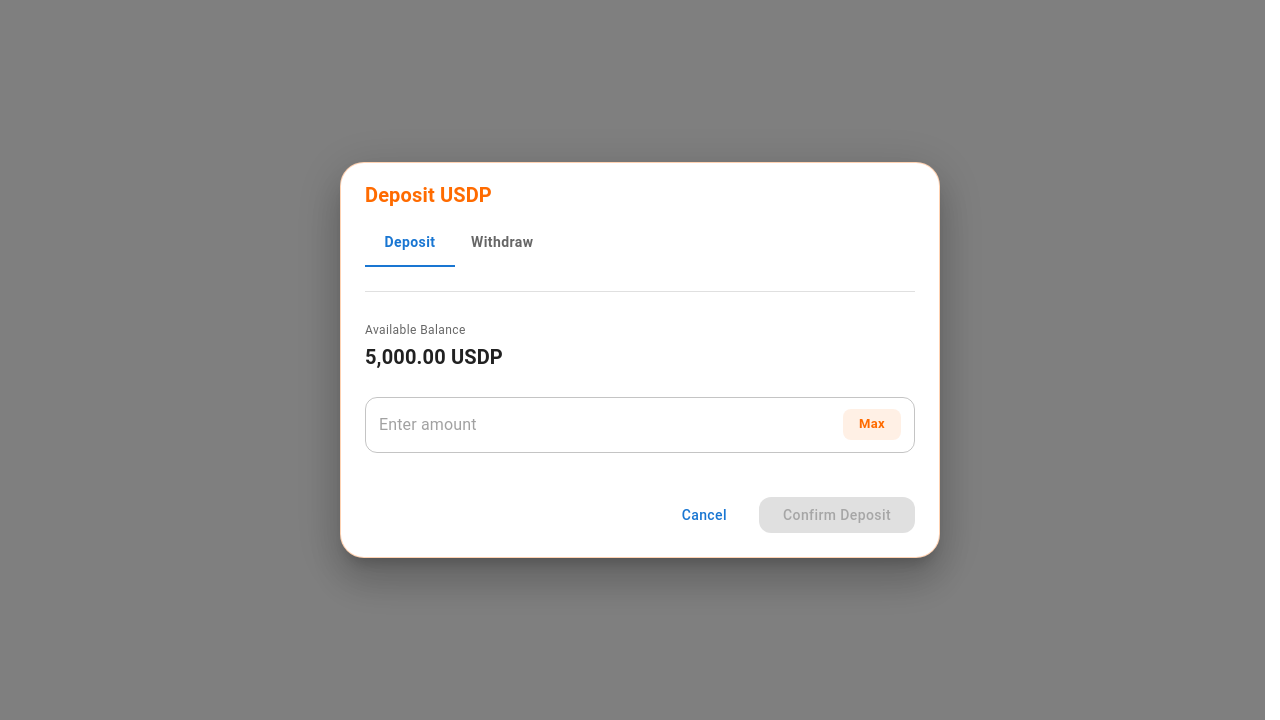
Scenario: SavingsDepositModal › Functional Tests › should switch between Deposit and Withdraw tabs
Expected: the heading "Deposit USDP" is shown, [365,183,492,207]
Note: Click Withdraw tab
Step 1. Click the tab "Withdraw" → click(502, 243), box [455,219,549,267]
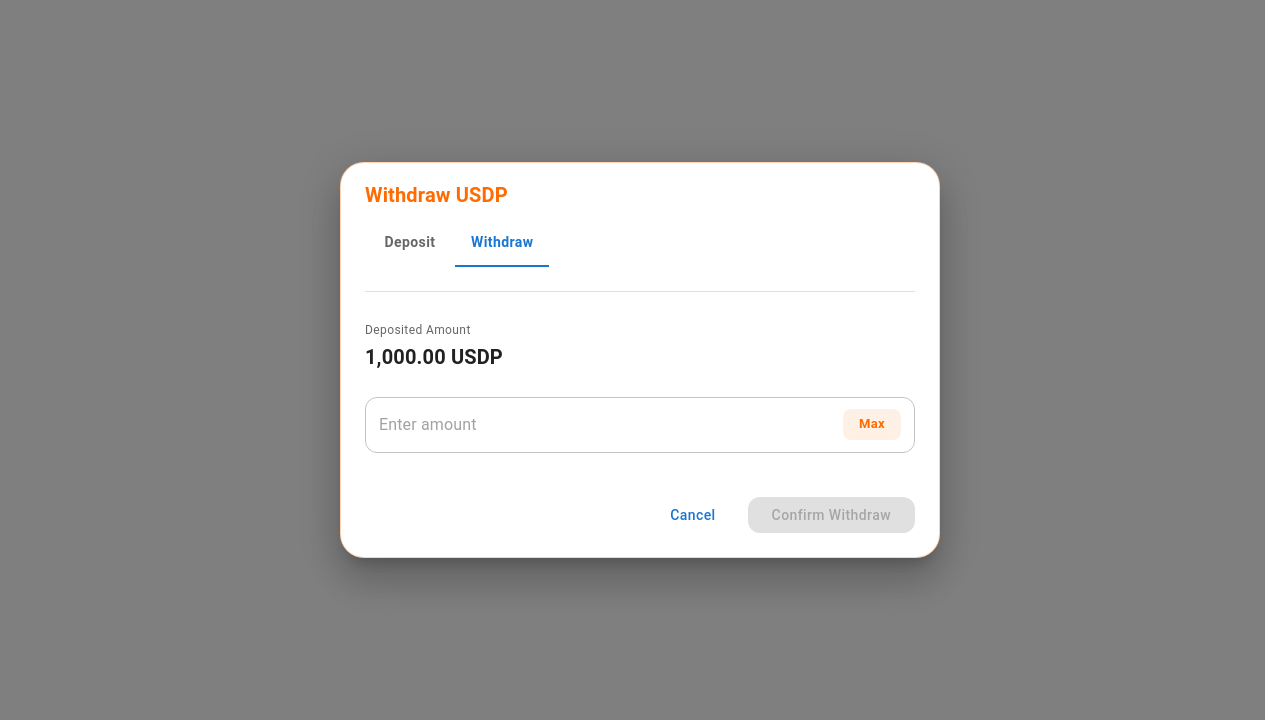
Now the heading "Withdraw USDP" is shown, box [365,183,508,207]
